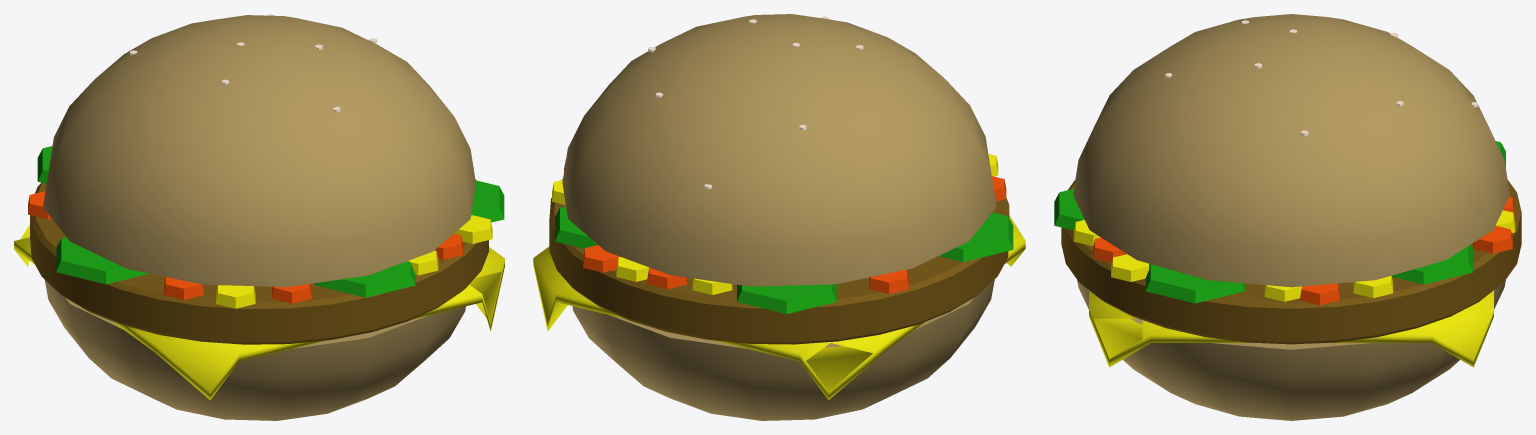
The model's file is cheeseburger.fbx.
The picture shows the model from 3 angles, left to right: view 1: azimuth 30°, elevation 25°; view 2: azimuth 150°, elevation 25°; view 3: azimuth 270°, elevation 25°; orthographic projection.
Parts seen in each view (by area): view 1: bun_top, bun_bottom, burger_patty, cheez, pickle__2_, pickle__4_, pickle__3_, mustard, mustard__6_, ketchup__3_, ketchup__4_, ketchup__5_ (+1 smaller); view 2: bun_top, bun_bottom, burger_patty, cheez, pickle__1_, pickle__2_, pickle, ketchup__1_, ketchup__2_, mustard__4_, ketchup, mustard__5_; view 3: bun_top, bun_bottom, burger_patty, cheez, pickle__3_, pickle, pickle__4_, mustard__6_, ketchup__1_, ketchup__6_, mustard__2_, mustard__3_ (+2 smaller).
Boxes of the visible parts, box(x1,y1,x2,y2) form: bun_top: box(43, 15, 475, 286); bun_bottom: box(45, 280, 465, 420); burger_patty: box(30, 179, 488, 344); cheez: box(14, 224, 504, 400); pickle__2_: box(56, 237, 149, 284); pickle__4_: box(316, 261, 415, 297); pickle__3_: box(471, 180, 504, 222); mustard: box(216, 285, 255, 308); mustard__6_: box(454, 215, 492, 243); ketchup__3_: box(164, 277, 203, 299); ketchup__4_: box(272, 284, 311, 303); ketchup__5_: box(434, 233, 463, 259); bun_top: box(562, 14, 996, 286); bun_bottom: box(572, 279, 994, 420); burger_patty: box(549, 179, 1009, 344); cheez: box(533, 215, 1025, 400); pickle__1_: box(737, 284, 836, 313); pickle__2_: box(939, 212, 1013, 261); pickle: box(555, 206, 597, 248); ketchup__1_: box(583, 245, 620, 272); ketchup__2_: box(869, 269, 908, 293); mustard__4_: box(616, 257, 649, 281); ketchup: box(647, 267, 687, 289); mustard__5_: box(692, 278, 732, 294); bun_top: box(1073, 14, 1509, 287); bun_bottom: box(1077, 280, 1505, 420); burger_patty: box(1061, 180, 1521, 344); cheez: box(1089, 290, 1493, 367); pickle__3_: box(1145, 264, 1244, 303); pickle: box(1392, 244, 1473, 284); pickle__4_: box(1054, 189, 1084, 230); mustard__6_: box(1111, 254, 1149, 281); ketchup__1_: box(1473, 225, 1512, 253); ketchup__6_: box(1300, 283, 1339, 305); mustard__2_: box(1353, 275, 1393, 298); mustard__3_: box(1264, 285, 1301, 301).
Size of the model in its own units: 105 by 85 by 102.
